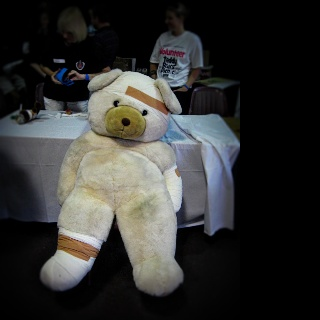without_mask: (166, 12, 180, 32)
